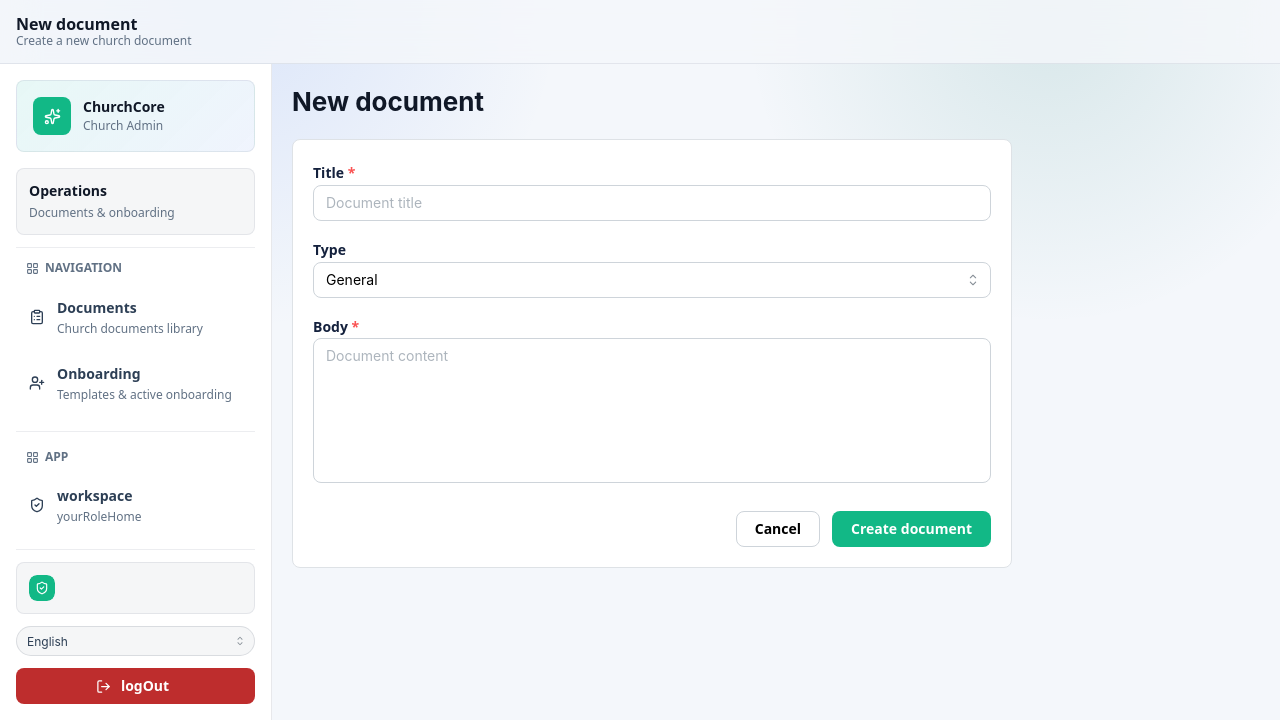
Test: OperationsDocumentFormClient — create mode › shows inline title error when title is empty on submit
Fill body but leave title blank
Type "Some body content" into the text box labelled "Body *" at (652, 411), box x1=313 y1=338 x2=991 y2=484
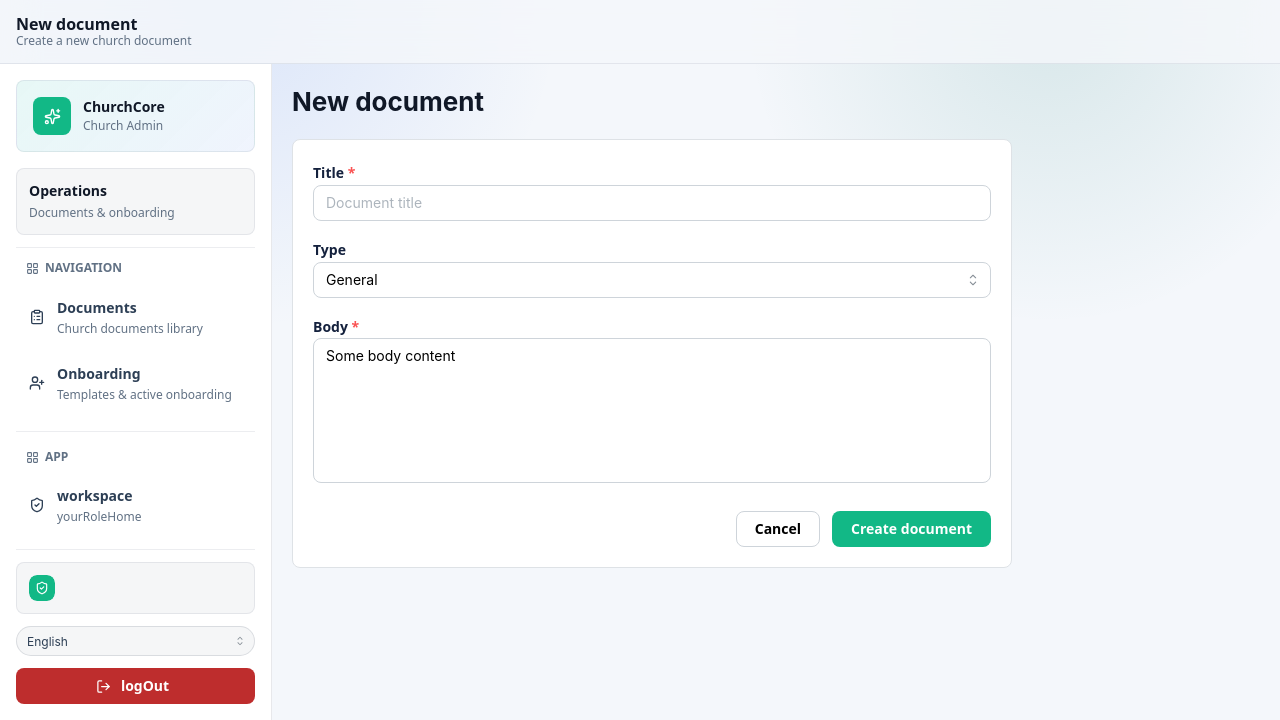
Submit via the form element directly to ensure handleSubmit fires
Submit the form "Title * Type Body * Cancel Create document", box x1=313 y1=160 x2=991 y2=548
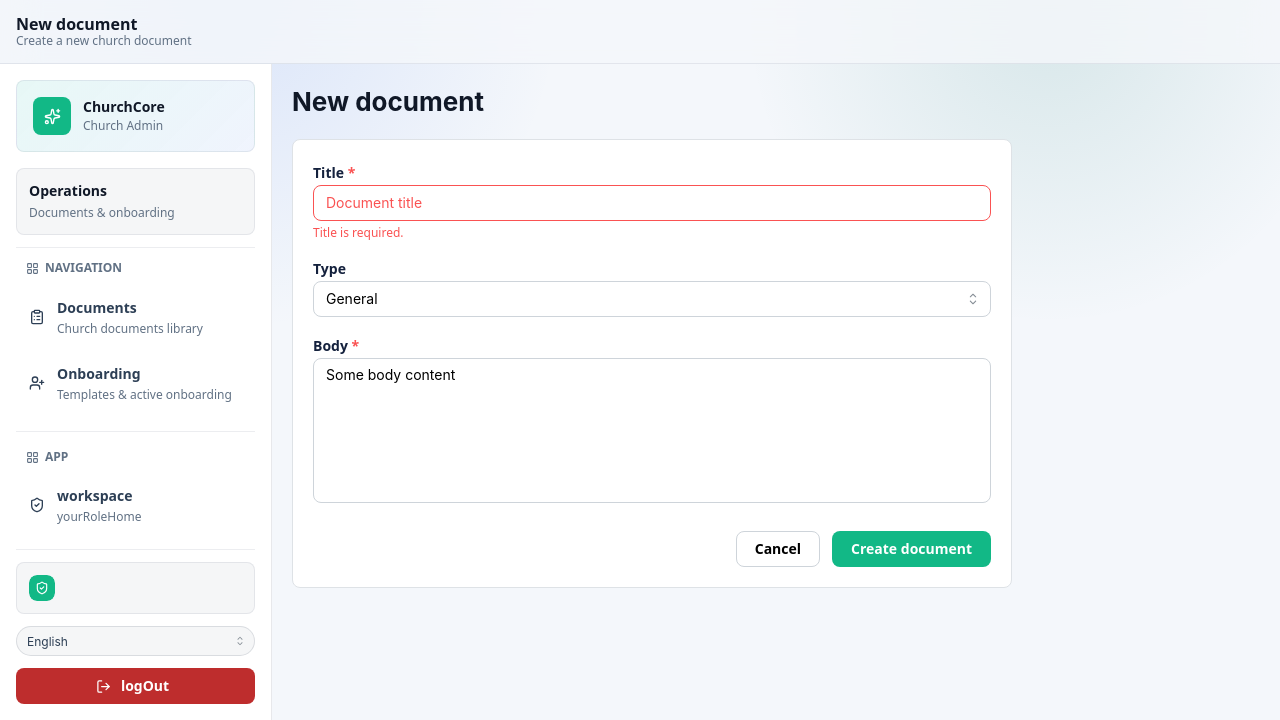
Now the text "Title is required." is shown, box x1=313 y1=224 x2=404 y2=241
